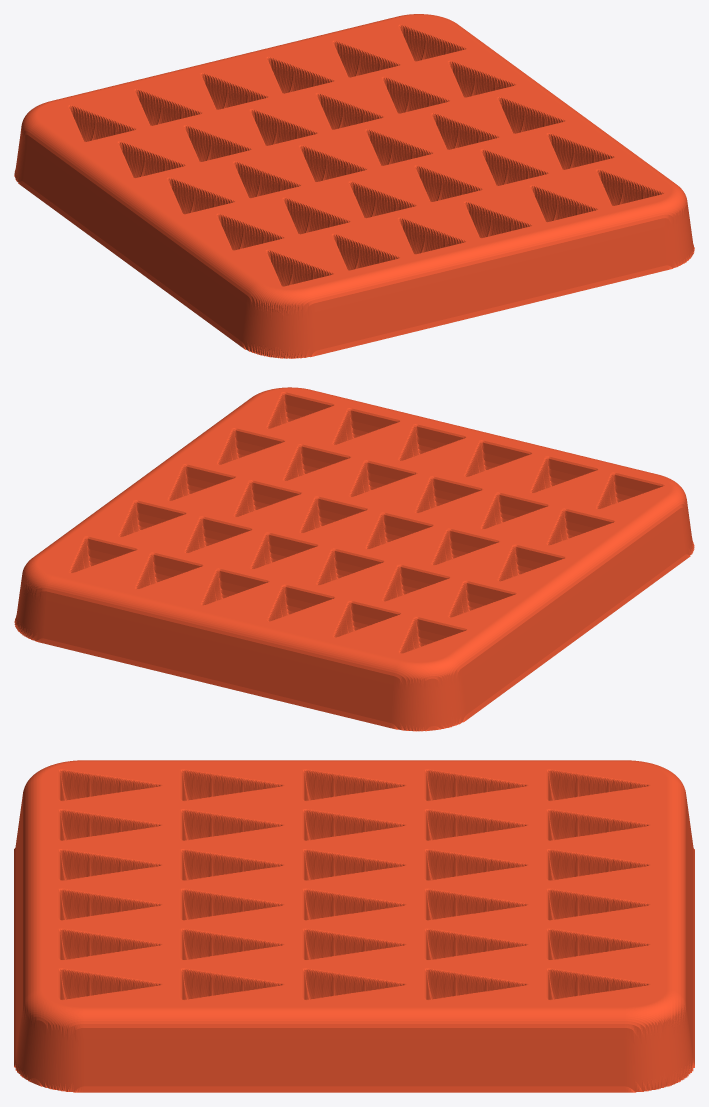
File: mold.glb
The picture shows the model from 3 angles, top to bottom: view 1: azimuth 30°, elevation 25°; view 2: azimuth 150°, elevation 25°; view 3: azimuth 270°, elevation 25°; orthographic projection. The views are drawn at different scales.
Visible parts, largest first — view 1: geometry_0; view 2: geometry_0; view 3: geometry_0.
Boxes of the visible parts, bbox=[...] form: geometry_0: bbox=[14, 14, 694, 358]; geometry_0: bbox=[14, 387, 694, 731]; geometry_0: bbox=[14, 760, 694, 1092].
Bounding box in the file's own units: 0.0824 × 0.0105 × 0.0882.
